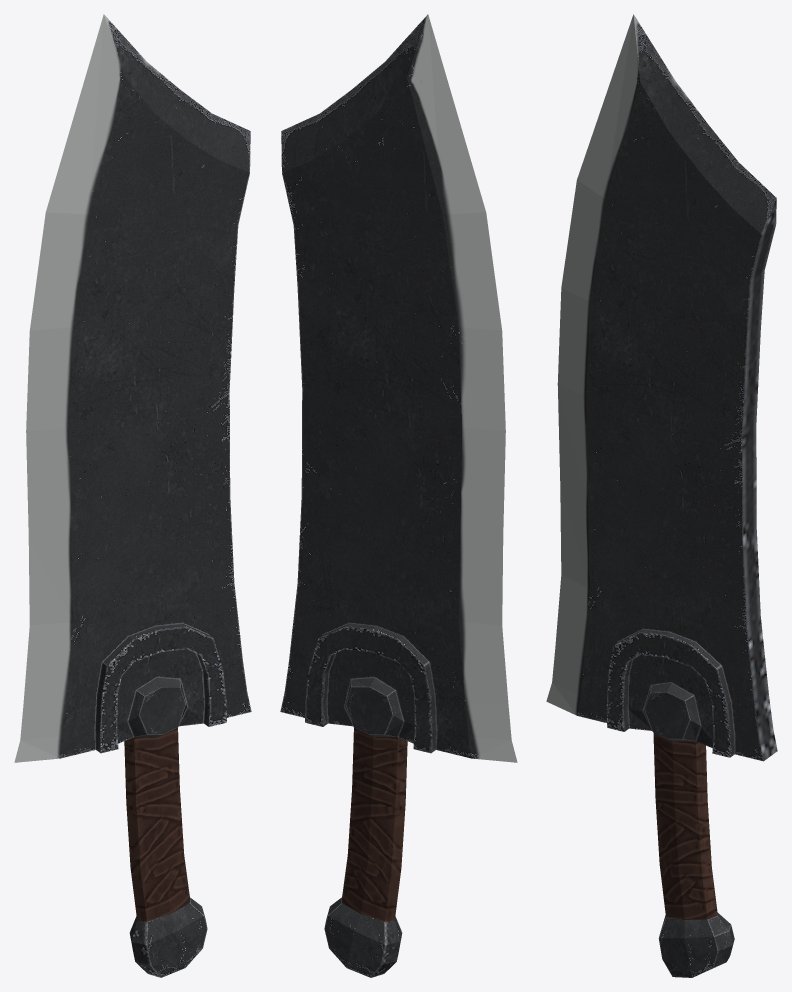
File: Crescent Blade.fbx
The picture shows the model from 3 angles, left to right: view 1: azimuth 30°, elevation 25°; view 2: azimuth 150°, elevation 25°; view 3: azimuth 330°, elevation 25°; orthographic projection. The views are drawn at different scales.
Visible parts, largest first — view 1: Crescent_Blade; view 2: Crescent_Blade; view 3: Crescent_Blade.
Boxes of the visible parts, box(x1,y1,x2,y2) form: Crescent_Blade: box(14, 14, 251, 977); Crescent_Blade: box(280, 14, 517, 977); Crescent_Blade: box(546, 14, 777, 977).
Bounding box in the file's own units: 78.49 × 308 × 13.9.
